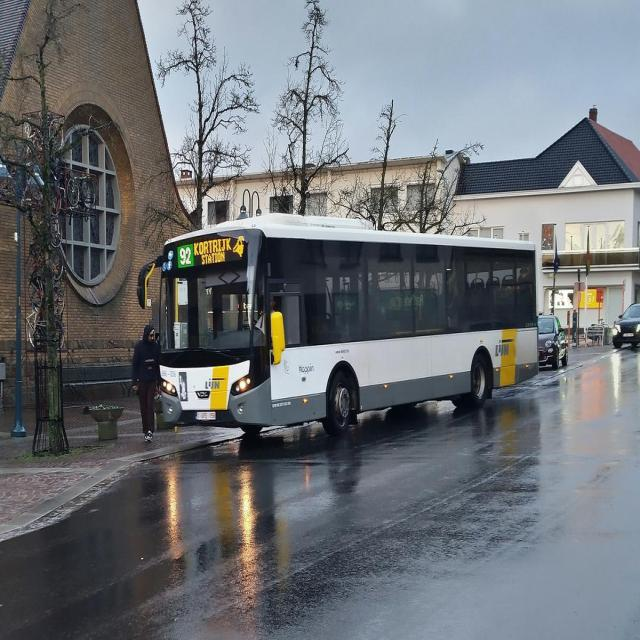bus-number: (176, 246, 192, 267)
